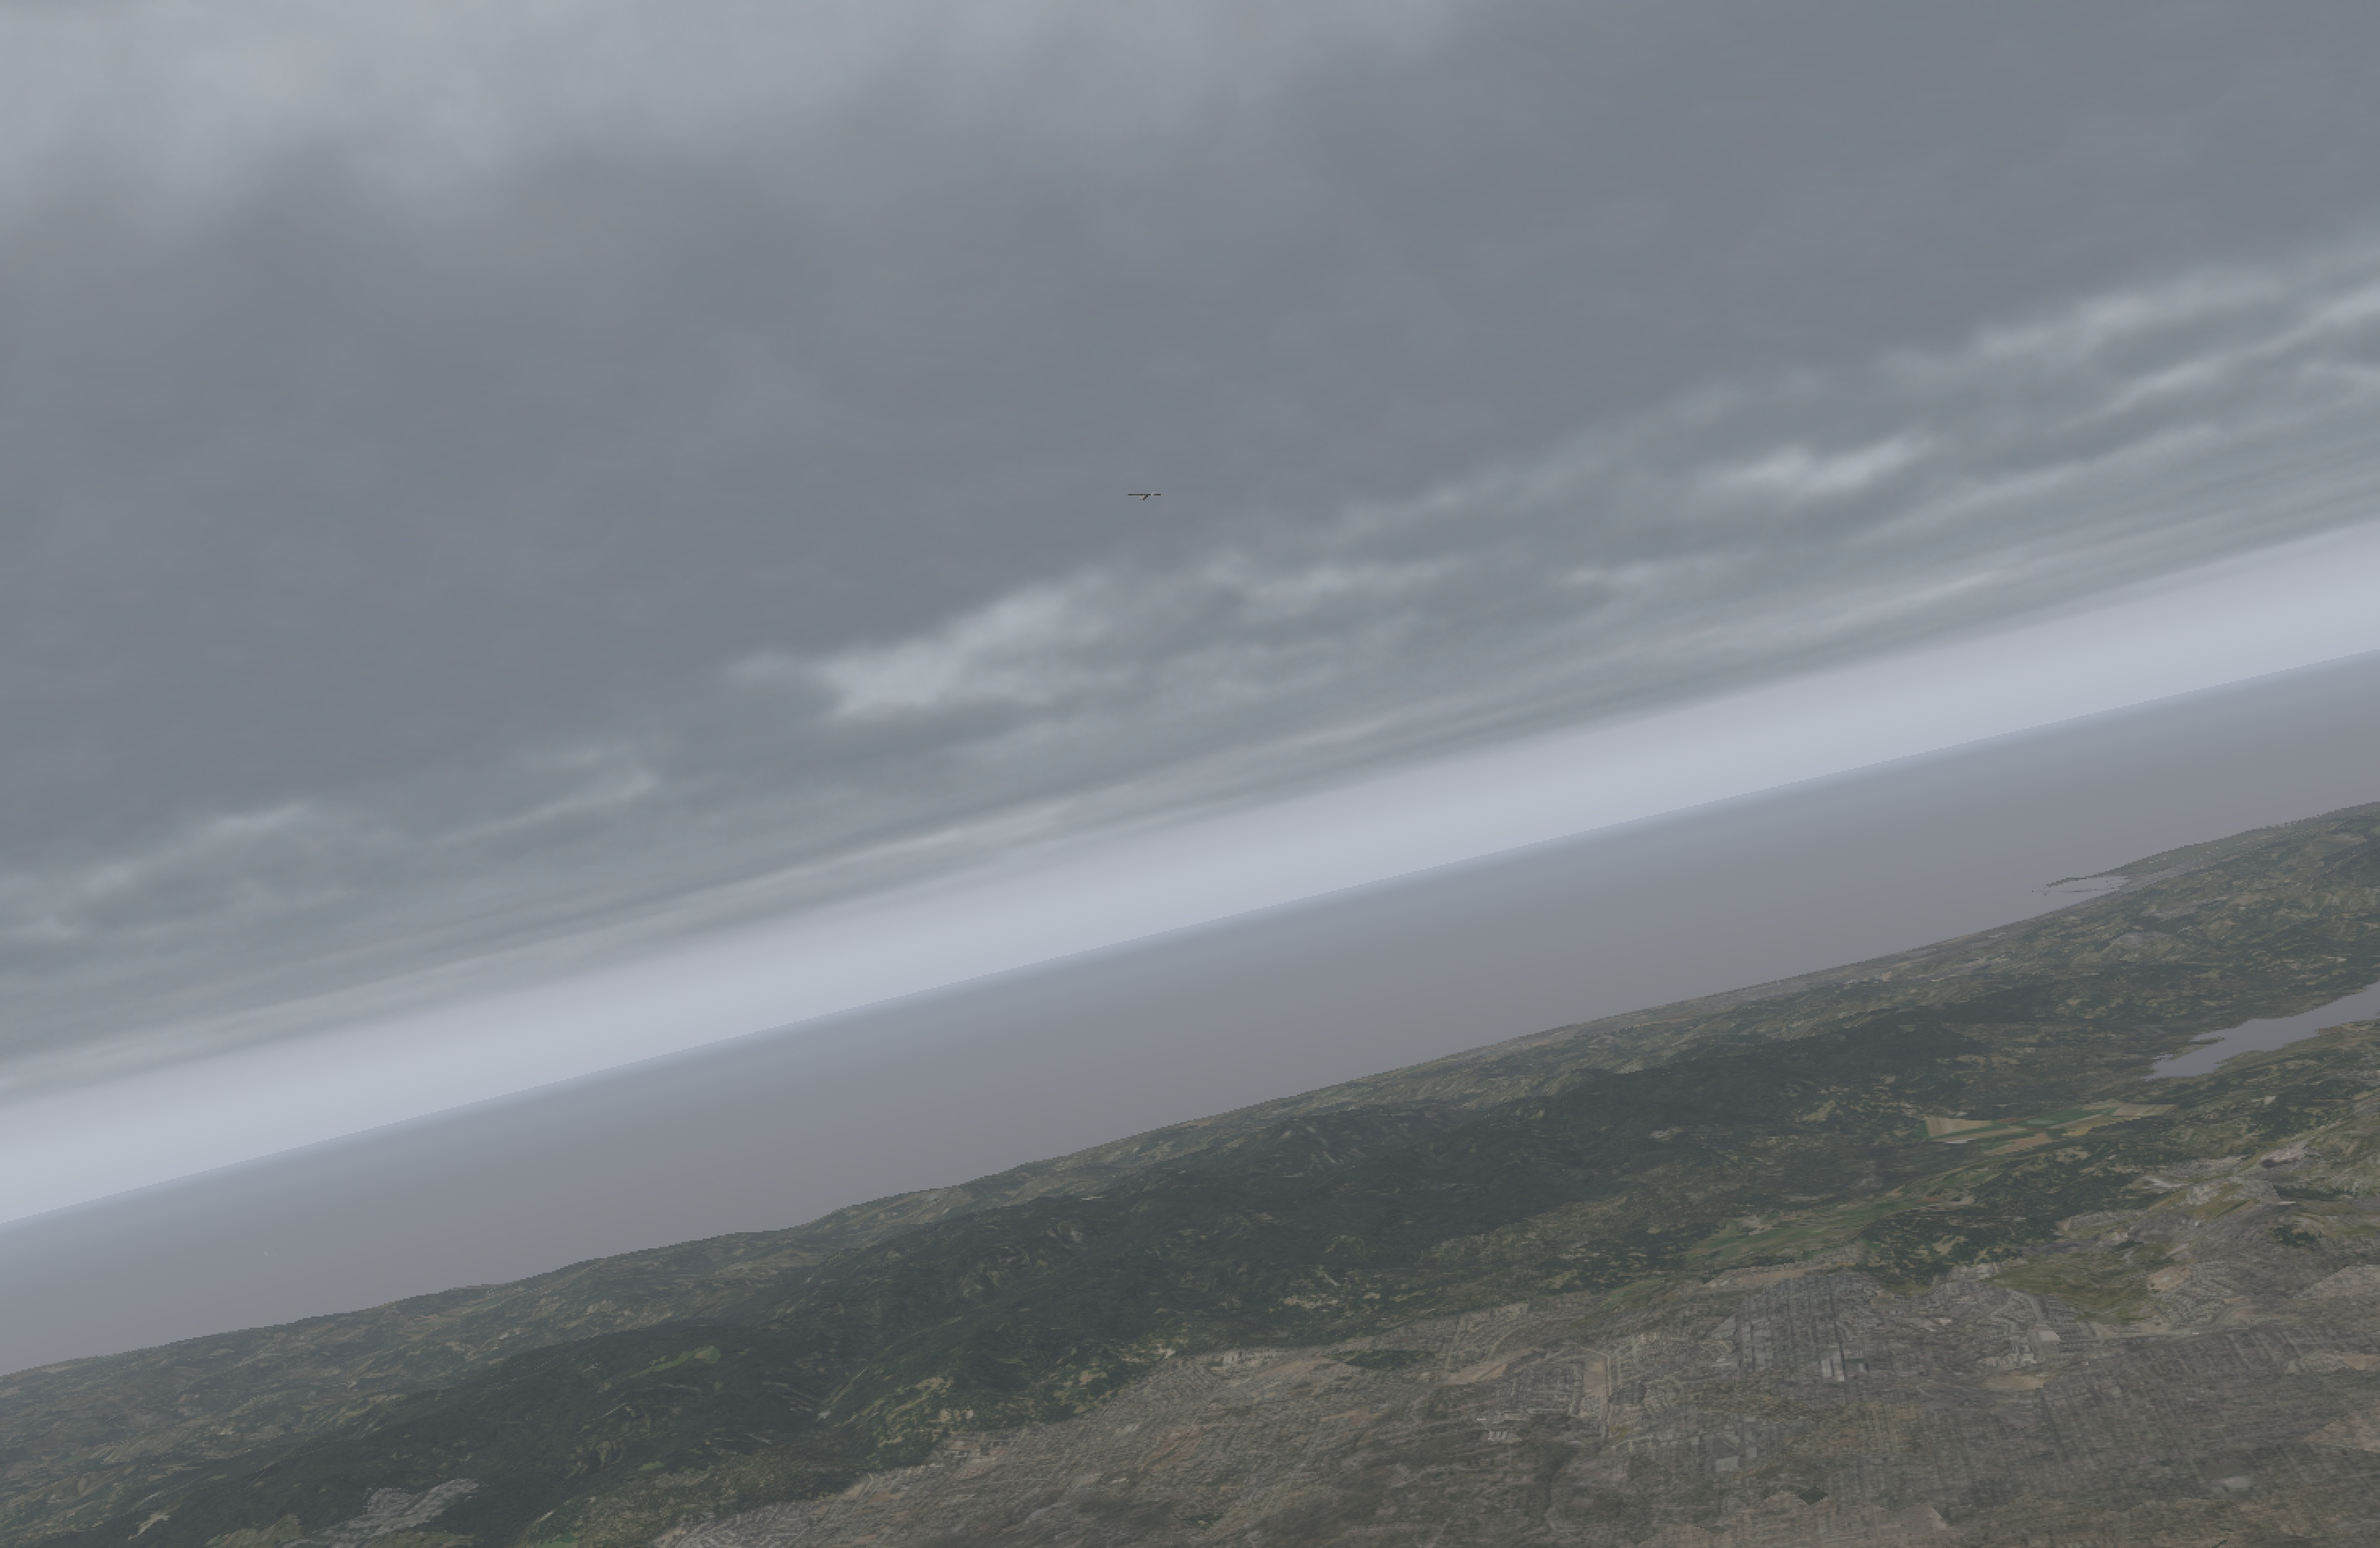aircraft: (1133, 491, 1157, 502)
